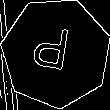P_S: (34, 25, 78, 81)
